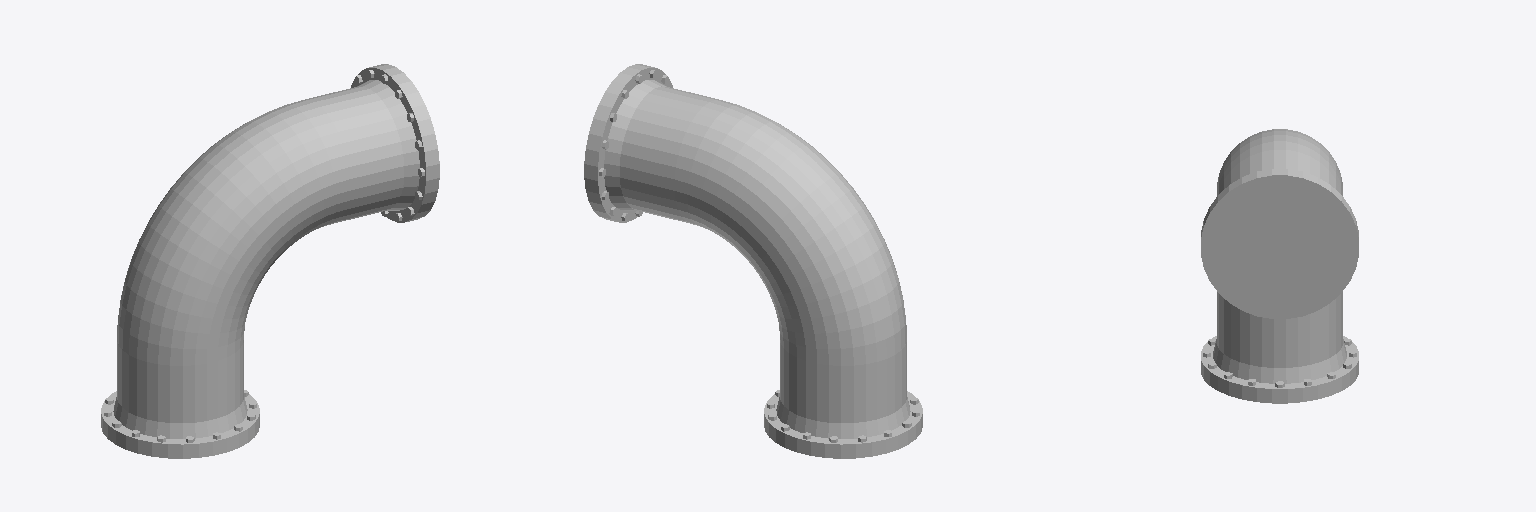
Rendered from pipeworks_pipe_4.obj.
3 views of the same model, side by side, from view 1: azimuth 30°, elevation 25°; view 2: azimuth 150°, elevation 25°; view 3: azimuth 270°, elevation 25° (orthographic).
Visible parts, largest first — view 1: Pipe_Cylinder.002_None.001; view 2: Pipe_Cylinder.002_None.001; view 3: Pipe_Cylinder.002_None.001.
Part boxes in pixels (bbox=[...]): Pipe_Cylinder.002_None.001: bbox=[101, 64, 439, 458]; Pipe_Cylinder.002_None.001: bbox=[584, 64, 922, 458]; Pipe_Cylinder.002_None.001: bbox=[1201, 129, 1358, 403].
Size of the model in its own units: 0.6562 by 0.6562 by 0.3125.